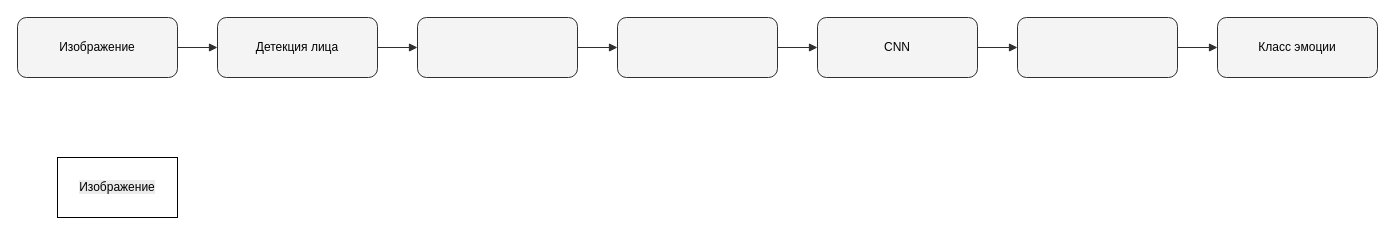
Some shapes in this 1395 by 235 pixel diagram are drawn without their labels. The shapes that lost their labels are listed below. From the top down, each one's centre as x and y in pixels, then its label:
At (x=497, y=47): "Grayscale + Resize".
At (x=697, y=47): "Нормализация".
At (x=1097, y=47): "Softmax".
